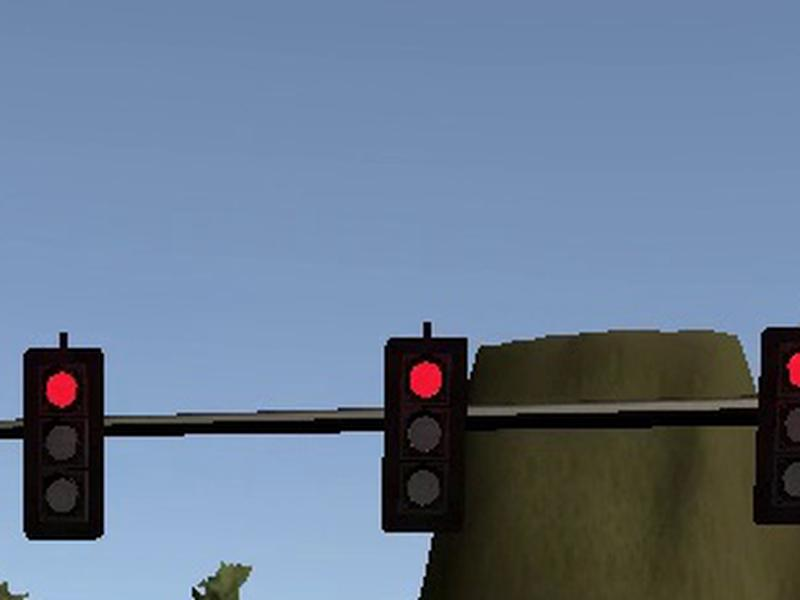Red: (380, 338, 467, 533), (21, 347, 105, 543), (751, 323, 800, 528)
